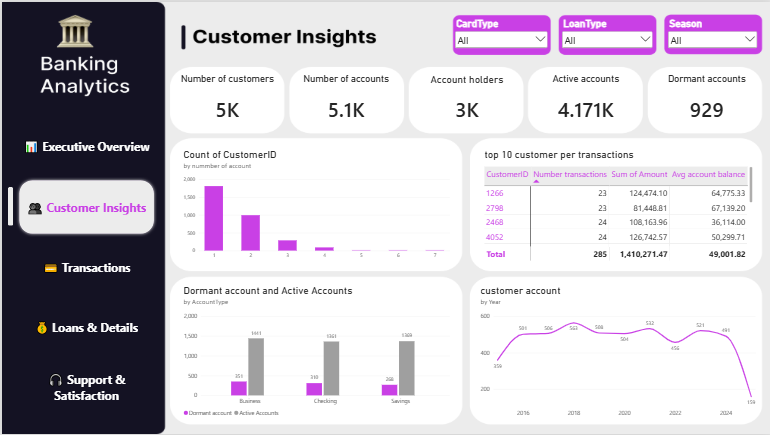

What the dashboard file says about the page in this screenshot:
{"tool":"powerbi","page":{"name":"Customer_page","canvas":[1920,1080],"ordinal":1},"visuals":[{"type":"cardVisual","title":"Number of customers","fields":{"Data":["Overview_measure.Number customers"]},"box":[438,178,252,134],"z":0},{"type":"cardVisual","title":"Account holders ","fields":{"Data":["Customer measure (2).account holder"]},"box":[1032,178,260,134],"z":1000},{"type":"cardVisual","title":"Active accounts","fields":{"Data":["Customer measure (2).Active accounts"]},"box":[1318,178,284,134],"z":2000},{"type":"cardVisual","title":"Dormant accounts","fields":{"Data":["Customer measure (2).Dormant account"]},"box":[1620,178,284,134],"z":3000},{"type":"cardVisual","title":"Number of accounts","fields":{"Data":["Customer measure (2).number account"]},"box":[732,178,256,134],"z":4000},{"type":"shape","box":[34.3,285.7,352.9,150],"z":5000},{"type":"shape","box":[34.3,437.1,352.9,150],"z":6000},{"type":"shape","box":[34.3,587.1,352.9,150],"z":7000},{"type":"shape","box":[34.3,737.1,352.9,150],"z":8000},{"type":"shape","box":[34.3,887.1,352.9,150],"z":9000},{"type":"shape","box":[15.5,462.7,12.9,97.1],"z":10000},{"type":"clusteredColumnChart","fields":{"Category":["Accounts.AccountType"],"Y":["Customer measure (2).Dormant account","Customer measure (2).Active Accounts"]},"box":[437.5,692.5,697.5,365],"z":11000},{"type":"lineChart","fields":{"Category":["Calender.Date.Variation.Date Hierarchy.Year","Calender.Date.Variation.Date Hierarchy.Quarter","Calender.Date.Variation.Date Hierarchy.Month","Calender.Date.Variation.Date Hierarchy.Day"],"Y":["Customer measure (2).customer account"]},"box":[1180,692.5,725,365],"z":12000},{"type":"pivotTable","title":"top 10 customer per transactions","fields":{"Rows":["Accounts.CustomerID"],"Values":["Overview_measure.Number transactions","Sum(Transactions.Amount)","Customer measure (2).Avg account balance"]},"box":[1190,352.5,702.5,310],"z":13000},{"type":"columnChart","fields":{"Category":["customers.nummber of account"],"Y":["CountNonNull(customers.CustomerID)"]},"box":[437.5,352.5,697.5,310],"z":14000},{"type":"slicer","fields":{"Values":["Cards.CardType"]},"box":[1127.5,37.5,241.2,90],"z":15000},{"type":"slicer","fields":{"Values":["Loans.LoanType"]},"box":[1395,37.5,236.2,90],"z":16000},{"type":"slicer","fields":{"Values":["Transactions.Season"]},"box":[1660,37.5,232.5,90],"z":17000}]}

Visuals, with their boxes on the page's 1920x1080 design canvas (x1, y1, x2, y2). These are canvas units, not pixel positions in the 770x435 screenshot, which may show the page scaled, cropped or inside an application window:
"Number of customers" cardVisual: 438, 178, 690, 312
"Account holders " cardVisual: 1032, 178, 1292, 312
"Active accounts" cardVisual: 1318, 178, 1602, 312
"Dormant accounts" cardVisual: 1620, 178, 1904, 312
"Number of accounts" cardVisual: 732, 178, 988, 312
shape: 34, 286, 387, 436
shape: 34, 437, 387, 587
shape: 34, 587, 387, 737
shape: 34, 737, 387, 887
shape: 34, 887, 387, 1037
shape: 16, 463, 28, 560
clusteredColumnChart - Accounts.AccountType x Customer measure (2).Dormant account: 438, 692, 1135, 1058
lineChart - Calender.Date.Variation.Date Hierarchy.Year x Calender.Date.Variation.Date Hierarchy.Quarter: 1180, 692, 1905, 1058
"top 10 customer per transactions" pivotTable: 1190, 352, 1892, 662
columnChart - customers.nummber of account x CountNonNull(customers.CustomerID): 438, 352, 1135, 662
slicer - Cards.CardType: 1128, 38, 1369, 128
slicer - Loans.LoanType: 1395, 38, 1631, 128
slicer - Transactions.Season: 1660, 38, 1892, 128
